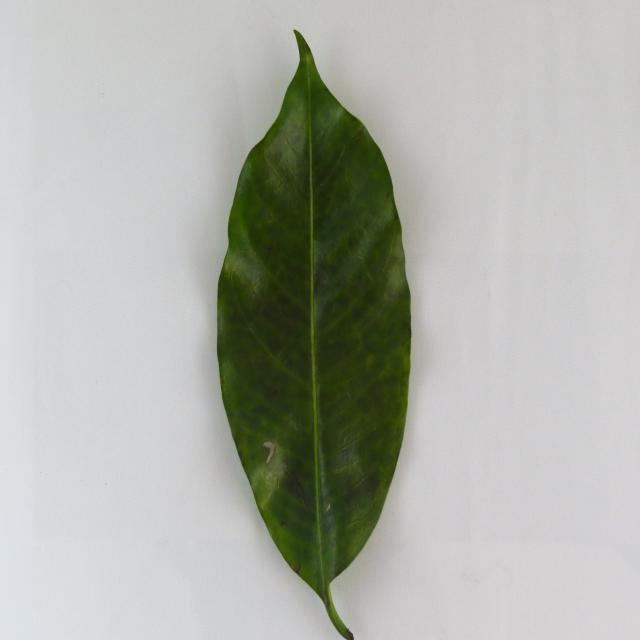DeficienciaNutricional-Magnesio: (218, 32, 411, 638)
